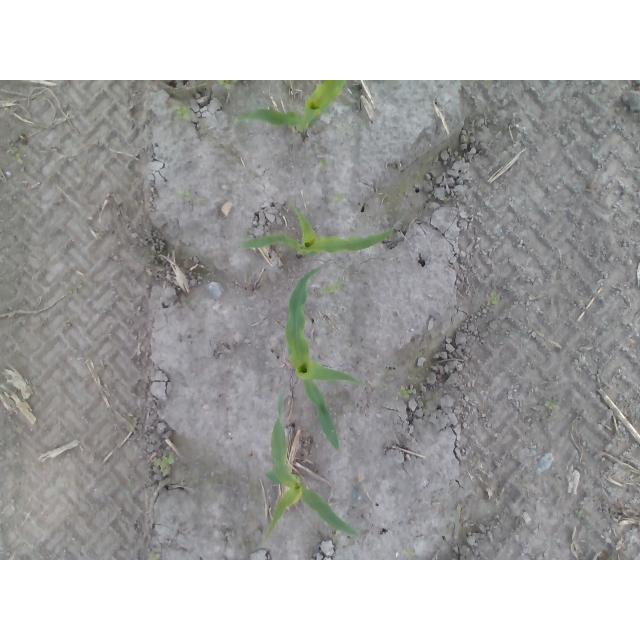Maize: (265, 386, 364, 540), (284, 261, 360, 450), (240, 204, 405, 257), (234, 80, 346, 140)
Weeds: (153, 453, 175, 477), (177, 188, 207, 204), (173, 103, 192, 121), (321, 281, 343, 295), (9, 148, 24, 165), (398, 386, 415, 399), (218, 80, 238, 90), (487, 290, 499, 305), (545, 401, 560, 412), (69, 281, 84, 292), (400, 548, 416, 556), (318, 159, 330, 169), (333, 192, 345, 202), (147, 553, 161, 560), (575, 509, 584, 518), (243, 230, 250, 238)
